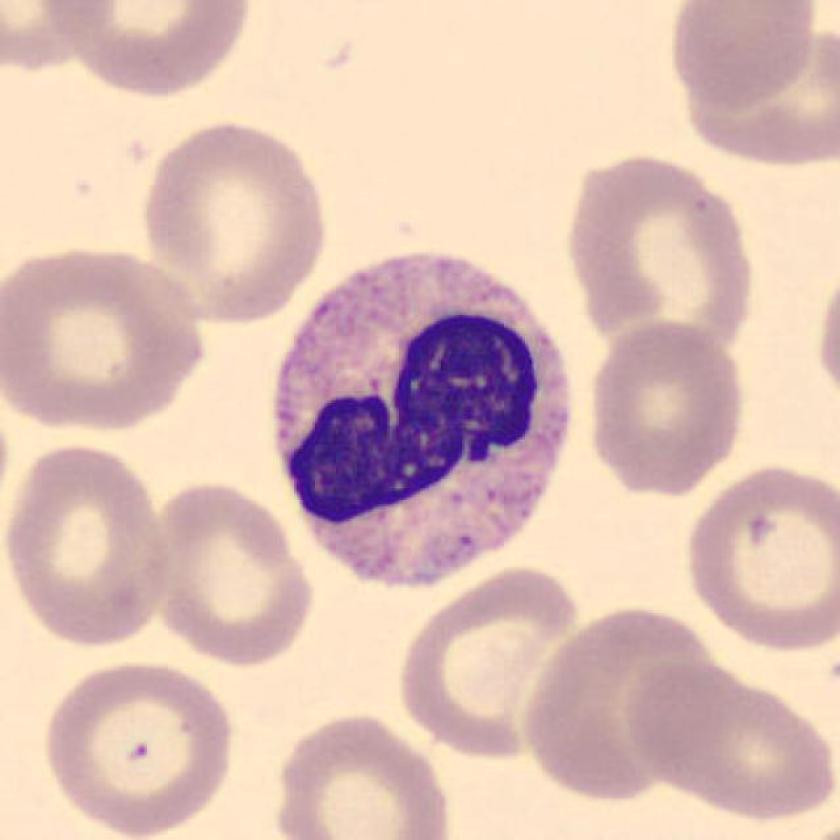neutrophil: (275, 253, 571, 586)
